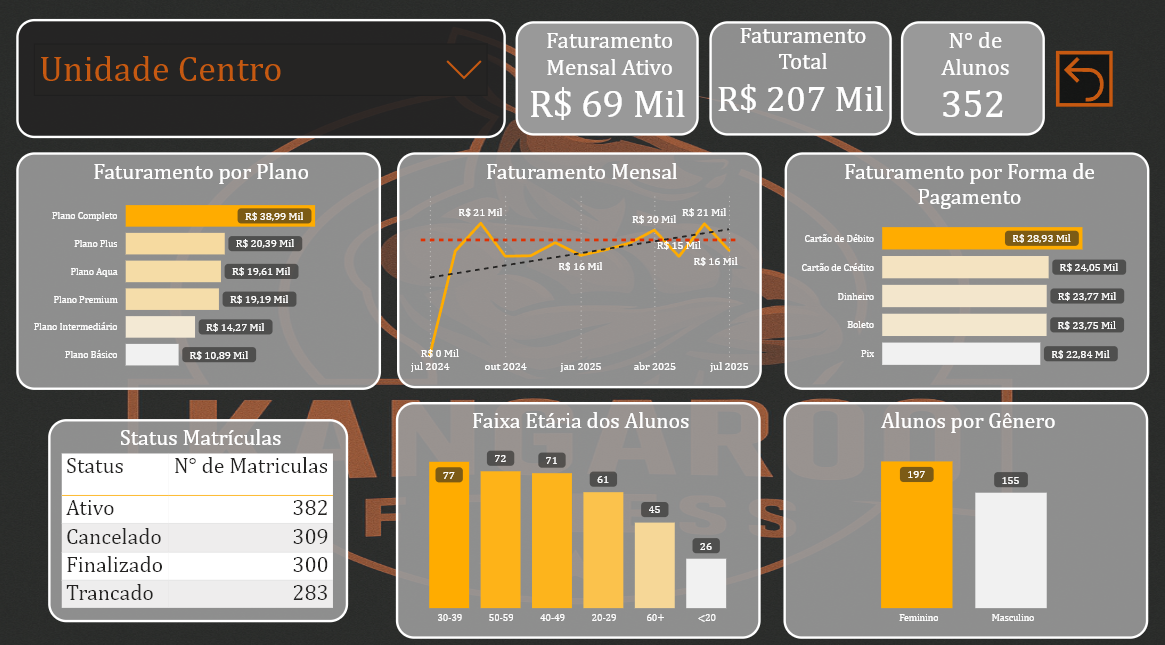

What the dashboard file says about the page in this screenshot:
{"tool":"powerbi","page":{"name":"Unidade","canvas":[1280,720],"ordinal":4},"visuals":[{"type":"card","title":"Faturamento Mensal Ativo","fields":{"Values":["0_Medidas.Fat_Mat_Ativas"]},"box":[567.6,28.5,201,125.6],"z":0},{"type":"clusteredColumnChart","title":"Alunos por Gênero","fields":{"Category":["dim_Clientes.Genero"],"Y":["0_Medidas.Medida"]},"box":[861.8,446.7,400,260],"z":1000},{"type":"clusteredColumnChart","title":"Faixa Etária dos Alunos","fields":{"Y":["0_Medidas.N_Alunos_Unidade"],"Category":["dim_Clientes.Faixa_Idade"]},"box":[436.2,446.5,400,260],"z":2000},{"type":"tableEx","title":"Status Matrículas","fields":{"Values":["fat_matriculas.Status","0_Medidas.N_Matriculas"]},"box":[55,465,329,223],"z":3000},{"type":"card","title":"N° de Alunos","fields":{"Values":["0_Medidas.N_Alunos_Unidade"]},"box":[989.5,28.5,158.2,125.6],"z":4000},{"type":"actionButton","box":[1160,60.7,62.5,61.2],"z":5000},{"type":"slicer","title":"Unidade","fields":{"Values":["fat_Unidade.Nome"]},"box":[20.2,26.2,536.6,130.3],"z":6000},{"type":"lineChart","title":"Faturamento Mensal","fields":{"Y":["0_Medidas.Fat_total"],"Category":["fat_pagamentos.Data_Pagamento.Variation.Hierarquia de datas.Ano","fat_pagamentos.Data_Pagamento.Variation.Hierarquia de datas.Mês"]},"box":[437.1,172.4,400,259],"z":7000},{"type":"clusteredBarChart","title":"Faturamento por Forma de Pagamento","fields":{"Y":["0_Medidas.Fat_Forma_Pag"],"Category":["fat_matriculas.Forma_Pagamento"]},"box":[861.9,172.8,400.1,260.5],"z":8000},{"type":"clusteredBarChart","title":"Faturamento por Plano","fields":{"Y":["0_Medidas.Fat_Forma_Pag"],"Category":["dim_plano.Nome"]},"box":[19.5,172.1,400.1,260.5],"z":9000},{"type":"card","title":"Faturamento Total","fields":{"Values":["0_Medidas.Fat_total"]},"box":[780.1,28.5,200.1,125.6],"z":10000}]}

Visuals, with their boxes in screenshot pixels (x1, y1, x2, y2), scaled from the page's 1280x720 canvas onto the 1165x645 screenshot:
"Faturamento Mensal Ativo" card: [517,26,700,138]
"Alunos por Gênero" clusteredColumnChart: [784,400,1148,633]
"Faixa Etária dos Alunos" clusteredColumnChart: [397,400,761,633]
"Status Matrículas" tableEx: [50,417,350,616]
"N° de Alunos" card: [901,26,1045,138]
actionButton: [1056,54,1113,109]
"Unidade" slicer: [18,23,507,140]
"Faturamento Mensal" lineChart: [398,154,762,386]
"Faturamento por Forma de Pagamento" clusteredBarChart: [784,155,1149,388]
"Faturamento por Plano" clusteredBarChart: [18,154,382,388]
"Faturamento Total" card: [710,26,892,138]
